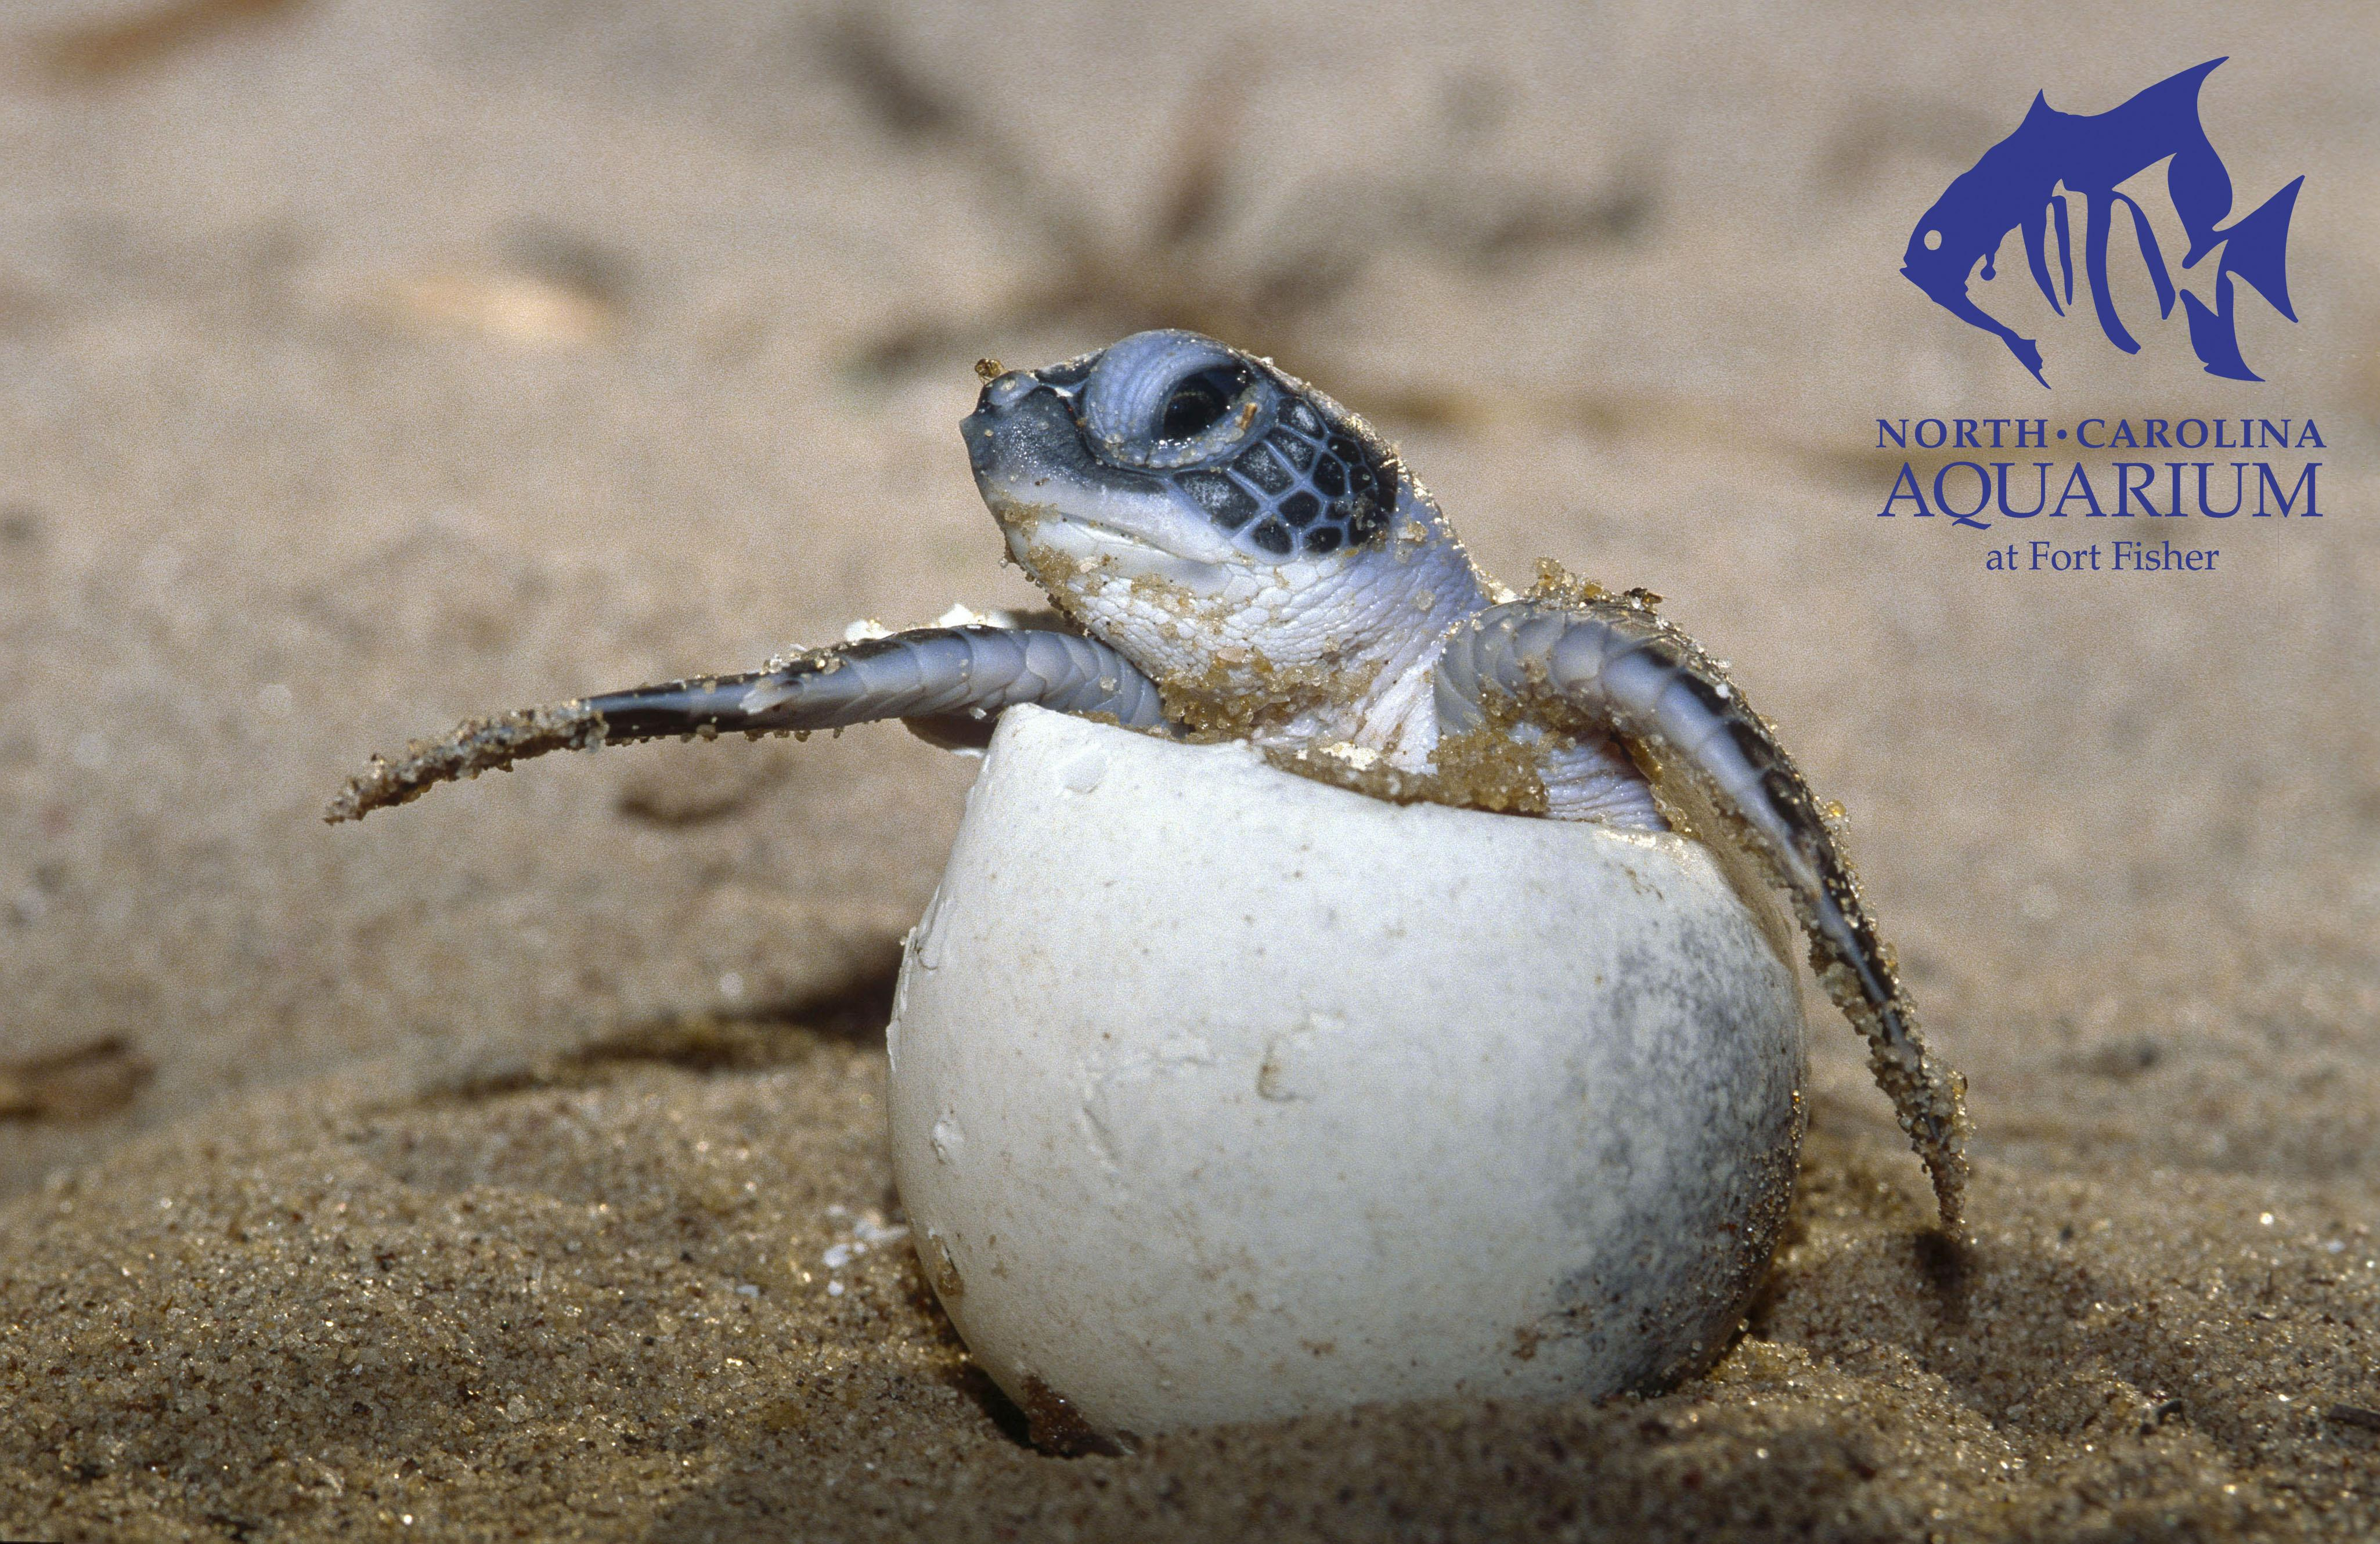turtle: (910, 304, 1485, 651)
